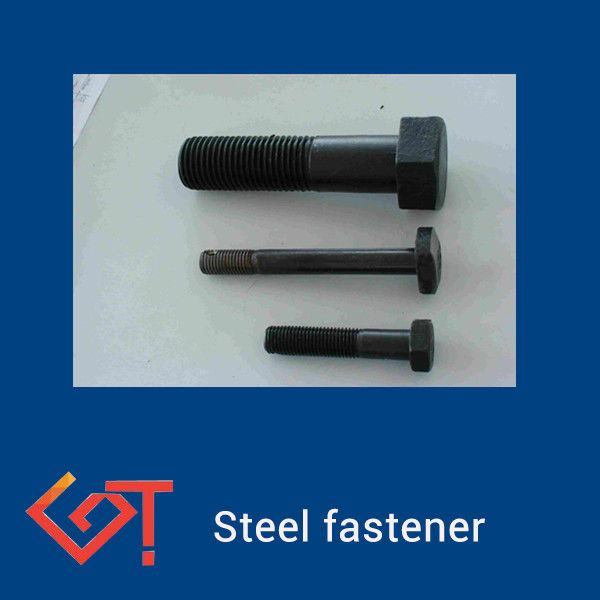screw: (178, 116, 448, 211), (199, 226, 443, 295), (265, 319, 436, 372)
